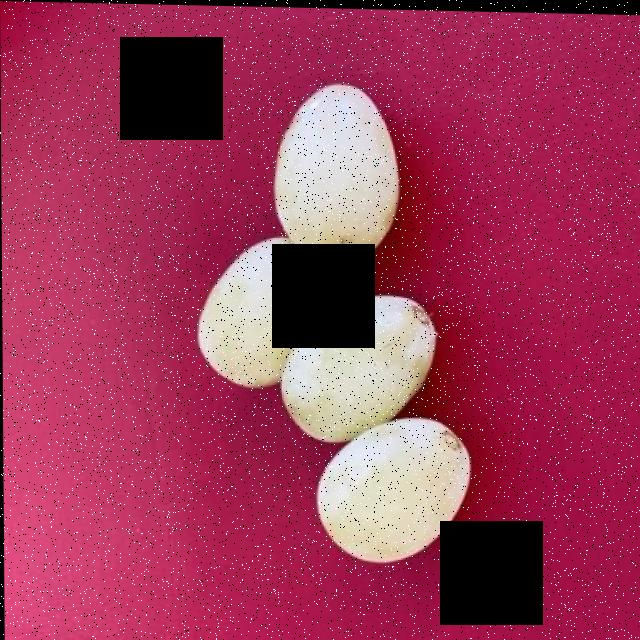grapes: (192, 77, 475, 566)
